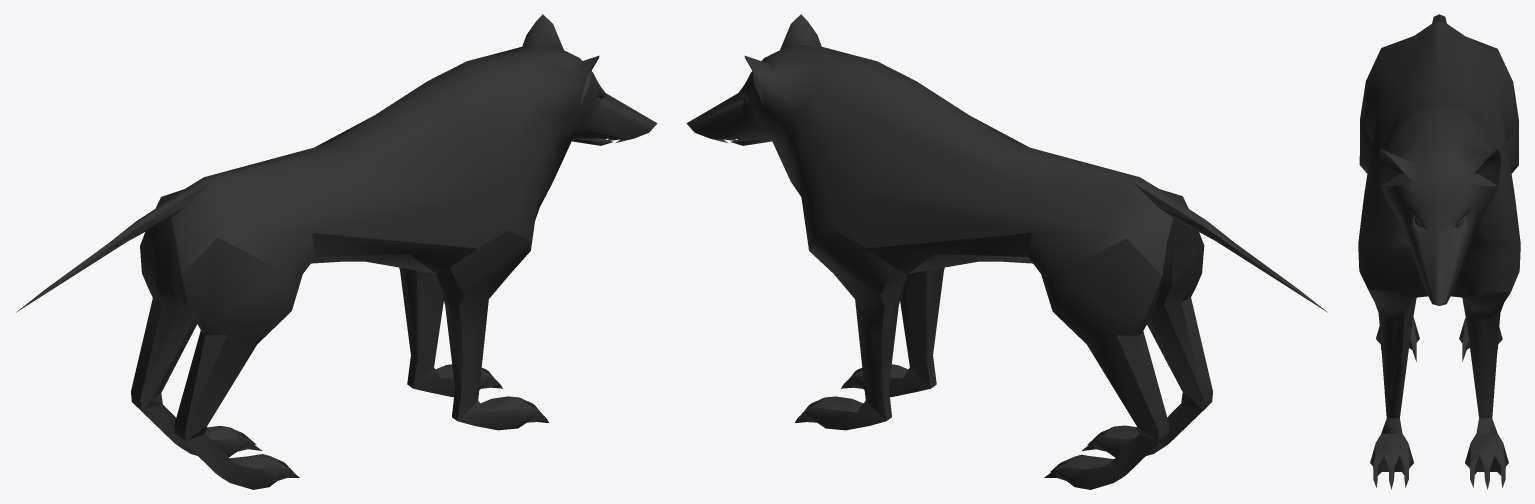
The model's file is Wolf_Default.FBX.
3 renders of one model, left to right at view 1: azimuth 30°, elevation 25°; view 2: azimuth 150°, elevation 25°; view 3: azimuth 270°, elevation 25°, orthographic. The views are drawn at different scales.
Visible parts, largest first — view 1: Wolf; view 2: Wolf; view 3: Wolf.
Boxes of the visible parts, box(x1,y1,x2,y2) form: Wolf: box(16, 14, 657, 489); Wolf: box(686, 14, 1327, 489); Wolf: box(1358, 14, 1520, 489).
Bounding box in the file's own units: 473 × 249 × 100.
